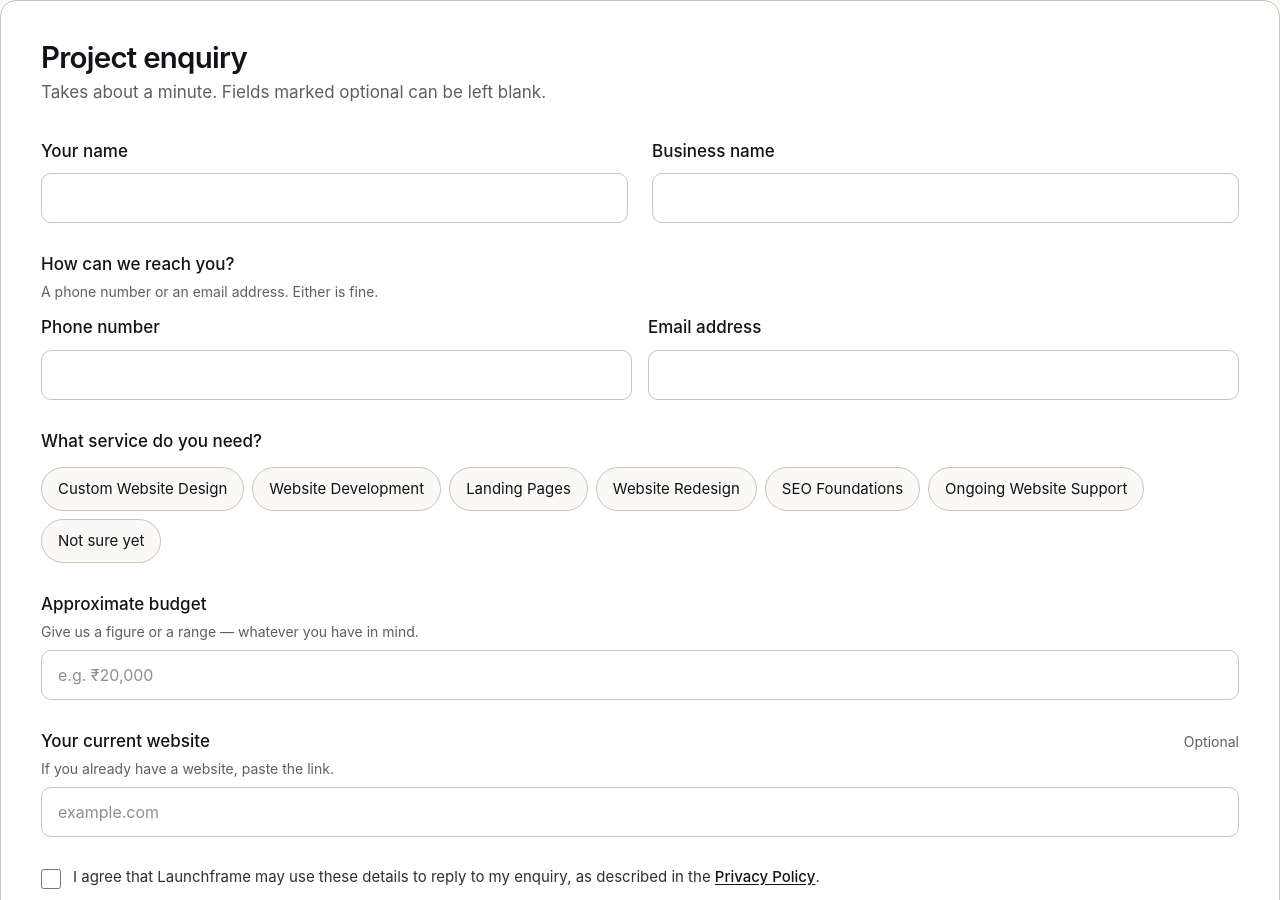
Test case: EnquiryForm › submits once even when double-clicked
Step 1. Type "Sam Rivera" into the field labelled "Your name" → (334, 198), box [41,173,628,223]
Step 2. Type "Rivera Plumbing" into the field labelled "Business name" → (946, 198), box [652,173,1239,223]
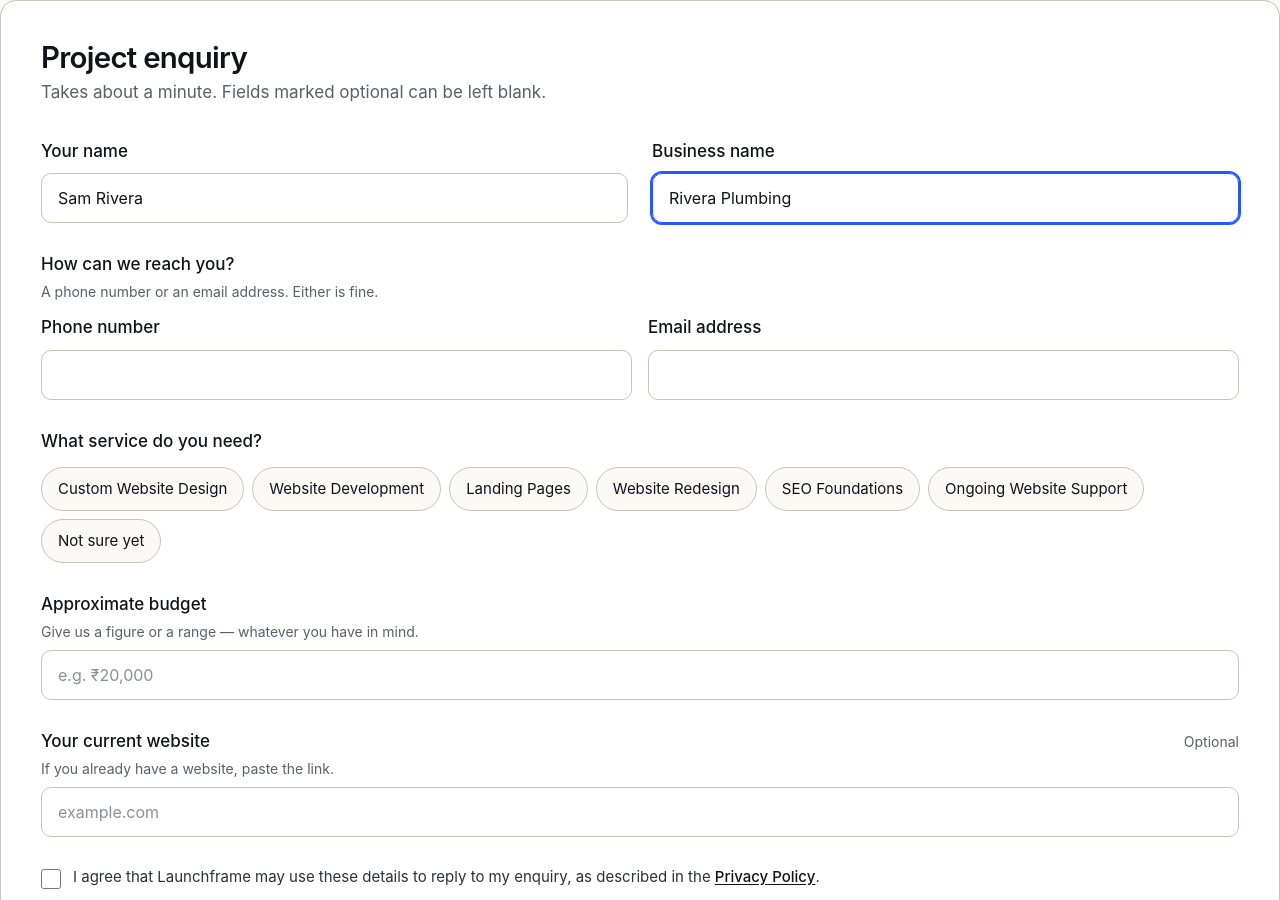
Step 3. Type "sam@example.com" into the field labelled "Email address" → (944, 375), box [648,350,1239,400]
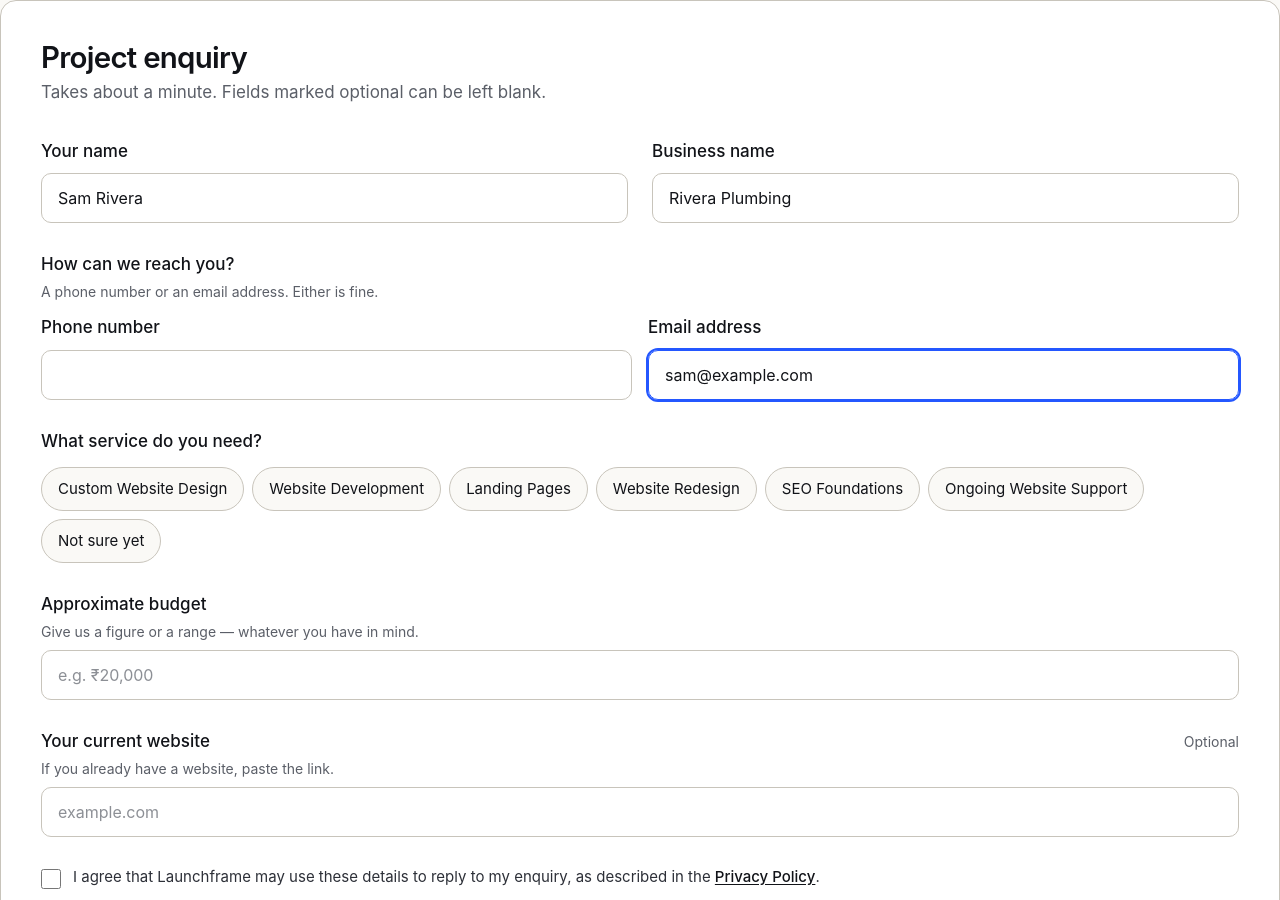
Step 4. Click the radio button labelled "Website Redesign" → (676, 489), box [596,467,757,511]
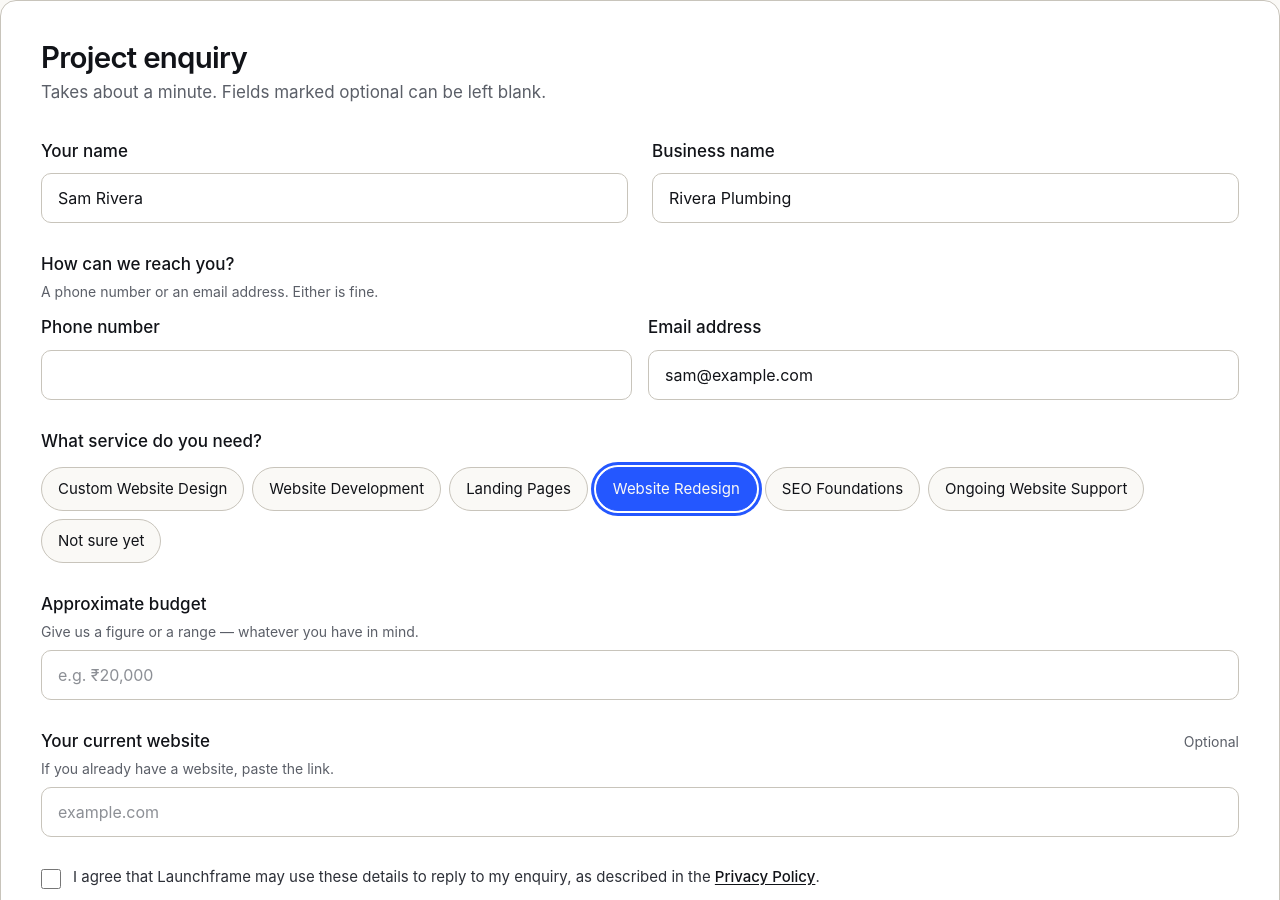
Step 5. Type "₹20,000" into the field labelled "Approximate budget" → (640, 675), box [41,650,1239,700]
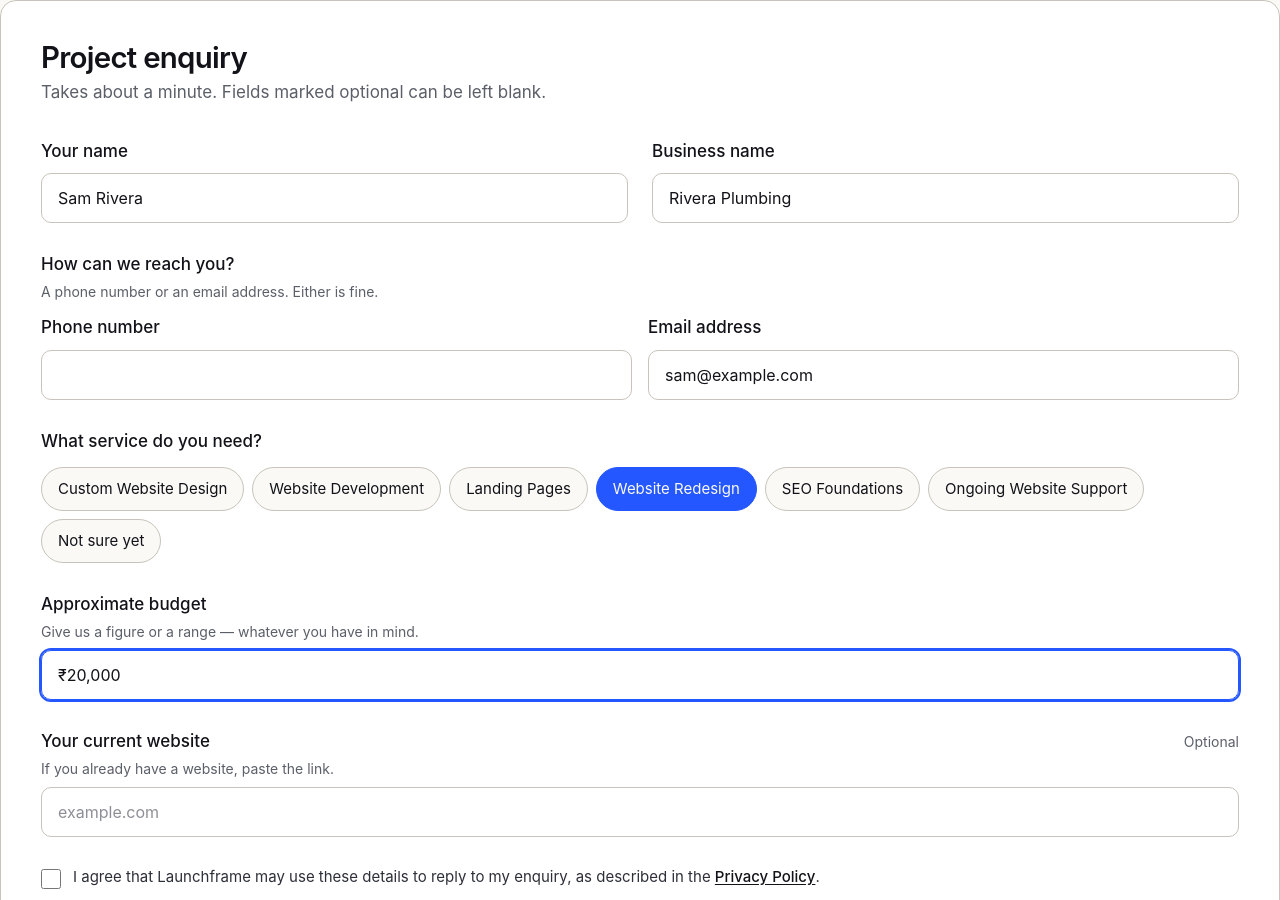
Step 6. Click the checkbox labelled "I agree" → (51, 879), box [41,869,61,889]
(page scrolled)
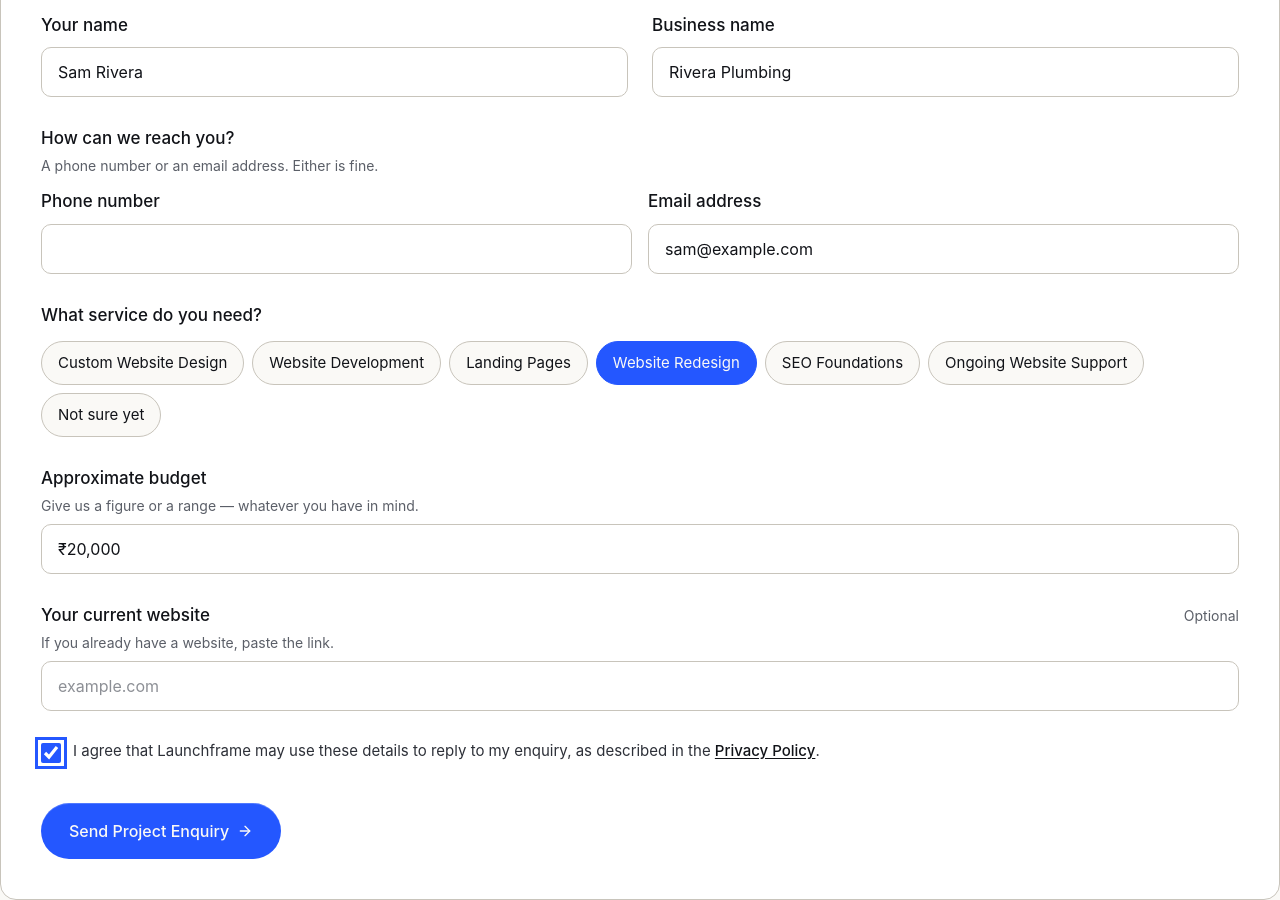
Step 7. Double-click the button "Send Project Enquiry" → (161, 831), box [41,803,281,859]
(page scrolled)
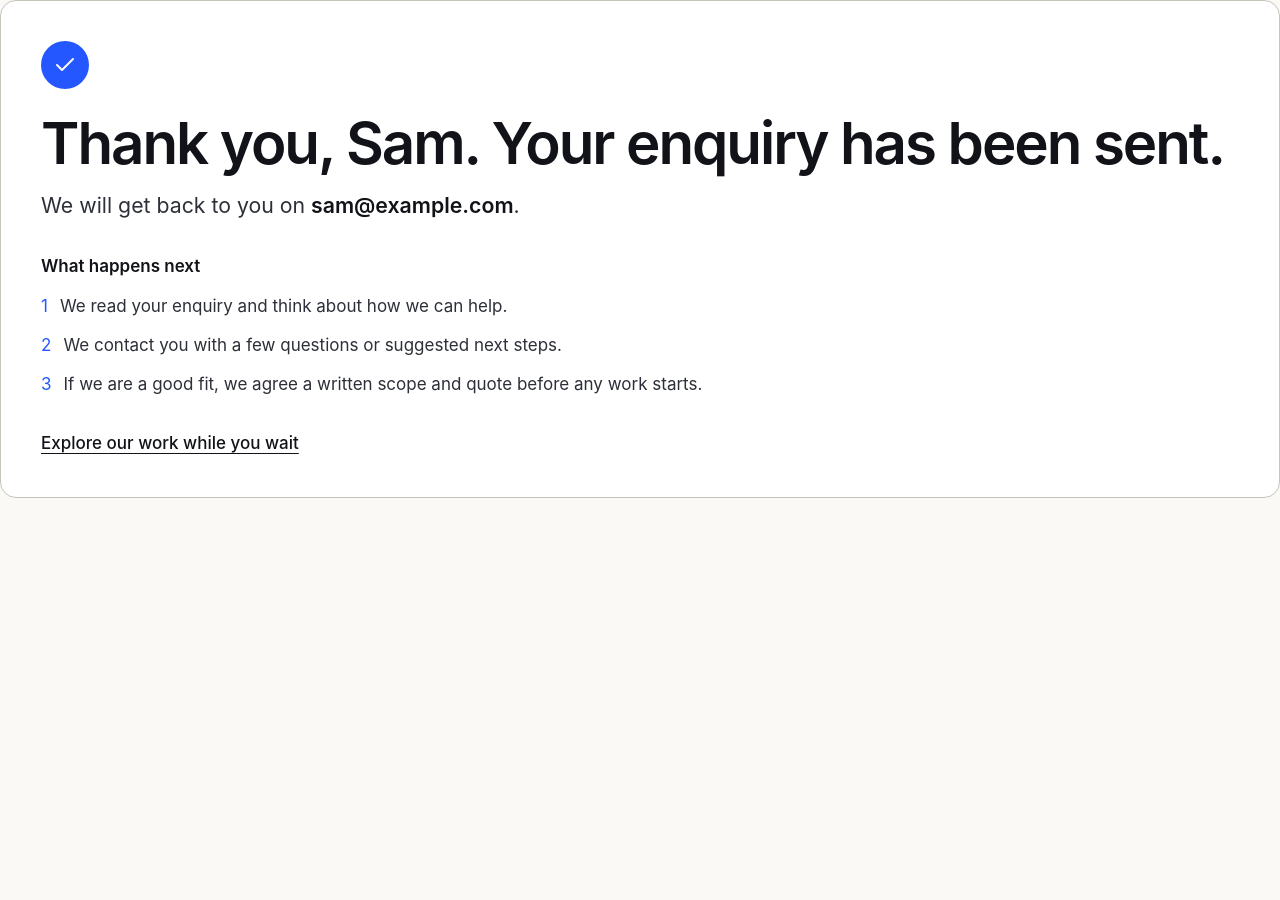
Result: the heading "Thank you, Sam. Your enquiry has been sent." is shown at [41,113,1239,174]
